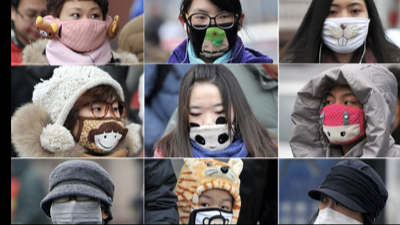with_mask: (321, 2, 373, 54), (76, 96, 126, 150), (186, 6, 238, 57), (318, 89, 365, 145), (186, 100, 236, 147), (60, 6, 104, 52), (49, 195, 106, 224), (318, 194, 362, 224), (193, 192, 233, 224)
